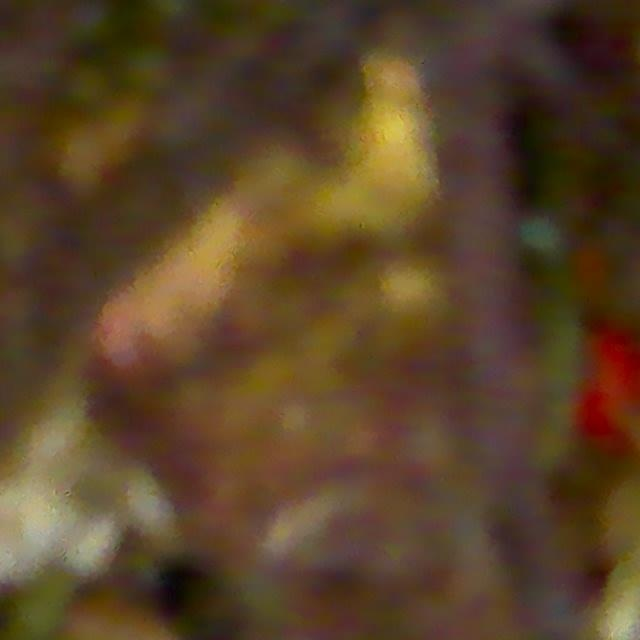SeaGrape: (124, 44, 180, 100), (61, 61, 114, 116), (60, 0, 119, 48)
